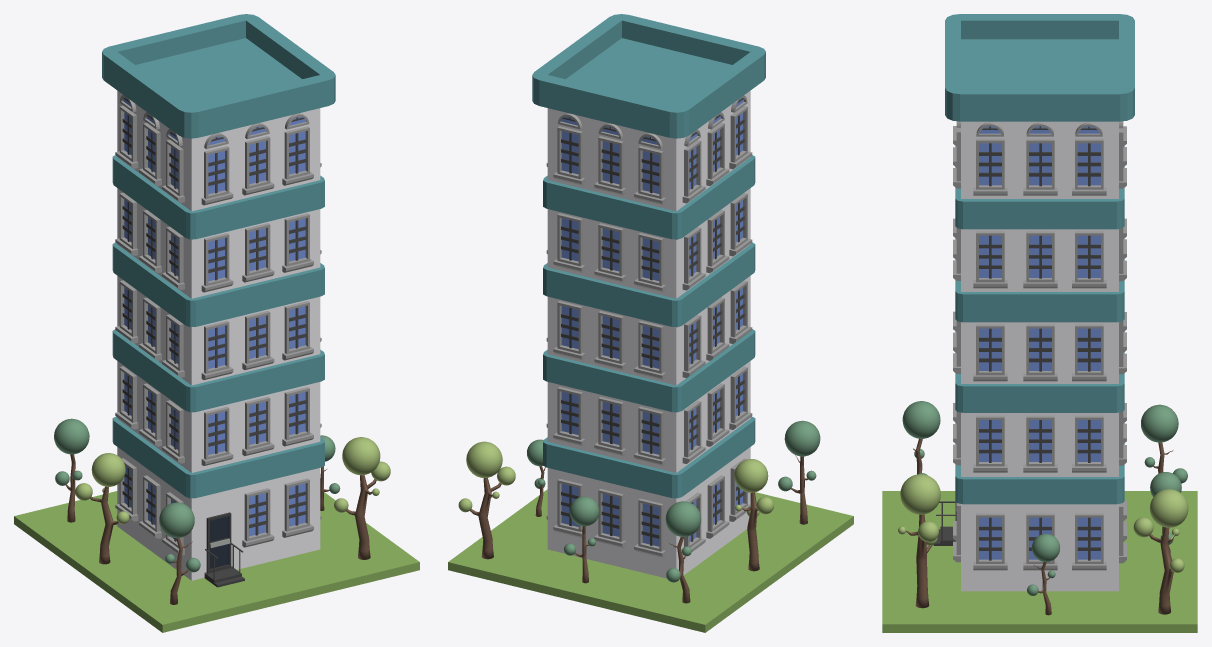
File: buildingL.fbx
The picture shows the model from 3 angles, left to right: view 1: azimuth 30°, elevation 25°; view 2: azimuth 150°, elevation 25°; view 3: azimuth 270°, elevation 25°; orthographic projection. The views are drawn at different scales.
Visible parts, largest first — view 1: Cube.037, Cube.125, Cylinder.036, Cylinder.035, Cube.097, Cylinder.038, Cylinder.030, Cube.050, Cube.039, Cube.045, Cube.040, Cube.044 (+23 smaller); view 2: Cube.037, Cube.125, Cylinder.034, Cylinder.035, Cylinder.038, Cylinder.030, Cube.077, Cube.071, Cube.074, Cube.080, Cube.072, Cube.070 (+25 smaller); view 3: Cube.037, Cube.125, Cylinder.036, Cylinder.034, Cube.063, Cube.062, Cube.061, Cube.060, Cube.059, Cube.058, Cube.057, Cube.056 (+11 smaller).
Part boxes in pixels (left/top/right/bottom): Cube.037: left=102, top=14, right=335, bottom=580; Cube.125: left=14, top=491, right=419, bottom=632; Cylinder.036: left=334, top=437, right=390, bottom=559; Cylinder.035: left=75, top=453, right=129, bottom=564; Cube.097: left=204, top=512, right=244, bottom=587; Cylinder.038: left=159, top=502, right=200, bottom=604; Cylinder.030: left=54, top=418, right=89, bottom=522; Cube.050: left=242, top=488, right=274, bottom=547; Cube.039: left=201, top=146, right=233, bottom=205; Cube.045: left=201, top=321, right=233, bottom=379; Cube.040: left=282, top=126, right=313, bottom=185; Cube.044: left=242, top=311, right=274, bottom=370; Cube.037: left=532, top=14, right=765, bottom=578; Cube.125: left=448, top=489, right=853, bottom=632; Cylinder.034: left=458, top=441, right=515, bottom=559; Cylinder.035: left=734, top=459, right=773, bottom=571; Cylinder.038: left=778, top=420, right=820, bottom=524; Cylinder.030: left=665, top=501, right=701, bottom=603; Cube.077: left=553, top=301, right=585, bottom=360; Cube.071: left=553, top=126, right=585, bottom=185; Cube.074: left=553, top=213, right=585, bottom=272; Cube.080: left=553, top=387, right=585, bottom=446; Cube.072: left=634, top=146, right=665, bottom=205; Cube.070: left=594, top=136, right=625, bottom=195; Cube.037: left=945, top=14, right=1134, bottom=591; Cube.125: left=882, top=491, right=1197, bottom=632; Cylinder.036: left=898, top=474, right=940, bottom=608; Cylinder.034: left=1133, top=489, right=1188, bottom=614; Cube.063: left=1023, top=138, right=1057, bottom=195; Cube.062: left=973, top=138, right=1007, bottom=195; Cube.061: left=1072, top=138, right=1106, bottom=195; Cube.060: left=1072, top=231, right=1106, bottom=288; Cube.059: left=973, top=231, right=1007, bottom=288; Cube.058: left=1023, top=231, right=1057, bottom=288; Cube.057: left=1023, top=324, right=1057, bottom=381; Cube.056: left=973, top=324, right=1007, bottom=381.
Size of the model in its own units: 404 by 718 by 400.
